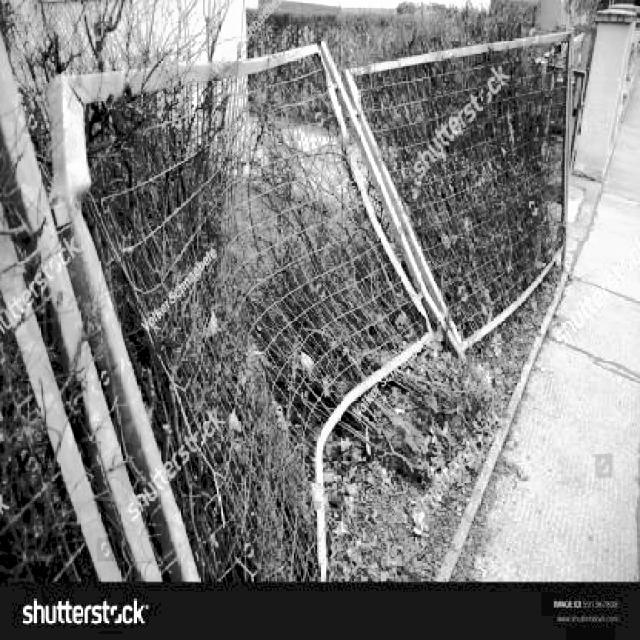anomaly-fence: (6, 6, 568, 574)
